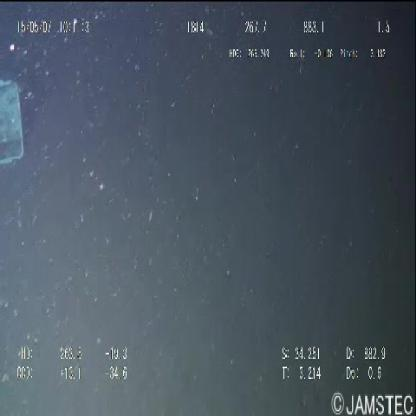Rác: (0, 80, 25, 169)
